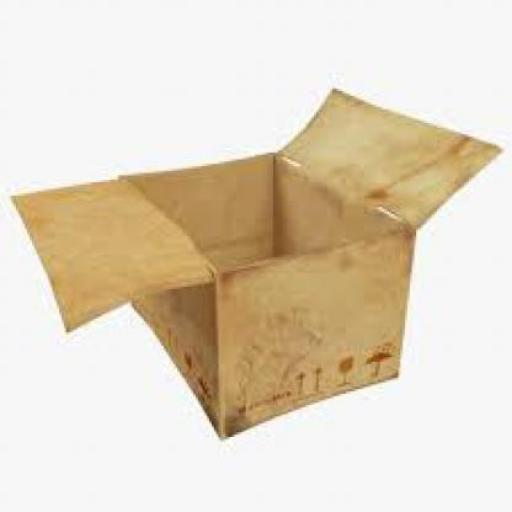cardboard: (11, 86, 501, 435)
